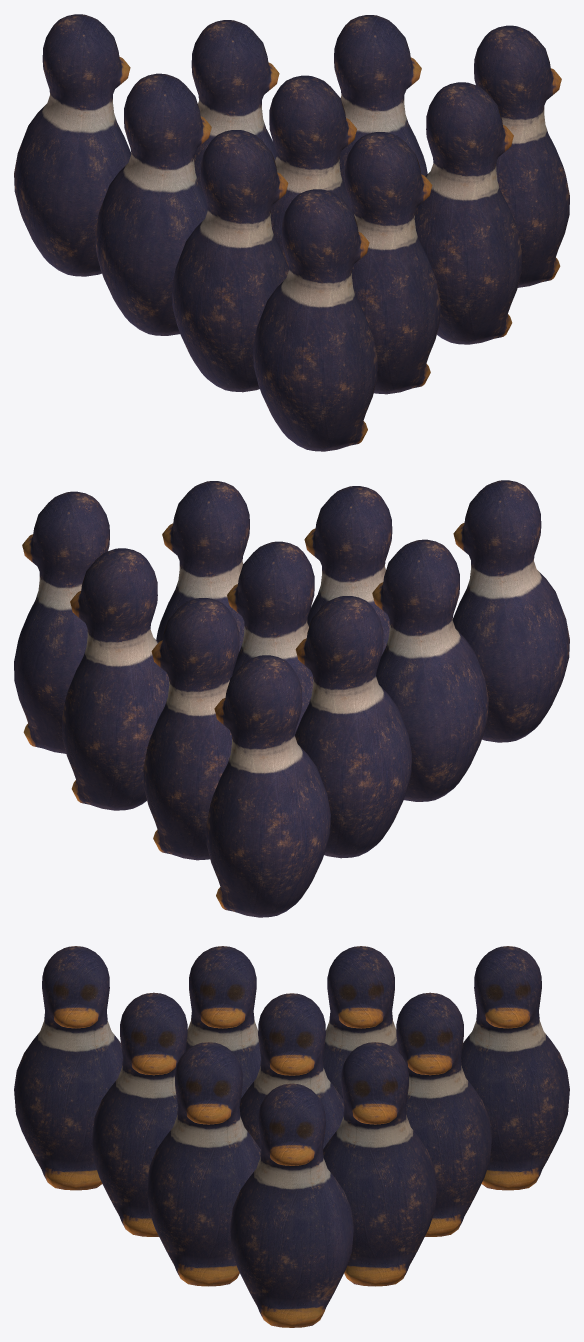
Rendered from pin-guins.glb.
The picture shows the model from 3 angles, top to bottom: view 1: azimuth 30°, elevation 25°; view 2: azimuth 150°, elevation 25°; view 3: azimuth 270°, elevation 25°; orthographic projection. The views are drawn at different scales.
Visible parts, largest first — view 1: Pinguin.001, Pinguin; view 2: Pinguin.001, Pinguin; view 3: Pinguin.001, Pinguin.
Part boxes in pixels (box(x1,y1,x2,y2)): Pinguin.001: box(14, 14, 521, 451); Pinguin: box(474, 25, 569, 287); Pinguin.001: box(62, 480, 569, 917); Pinguin: box(14, 491, 109, 753); Pinguin.001: box(14, 946, 569, 1286); Pinguin: box(230, 1083, 353, 1327).
Size of the model in its own units: 14.76 by 8.5 by 19.01.
Materials: 1 (1 with a texture image).
